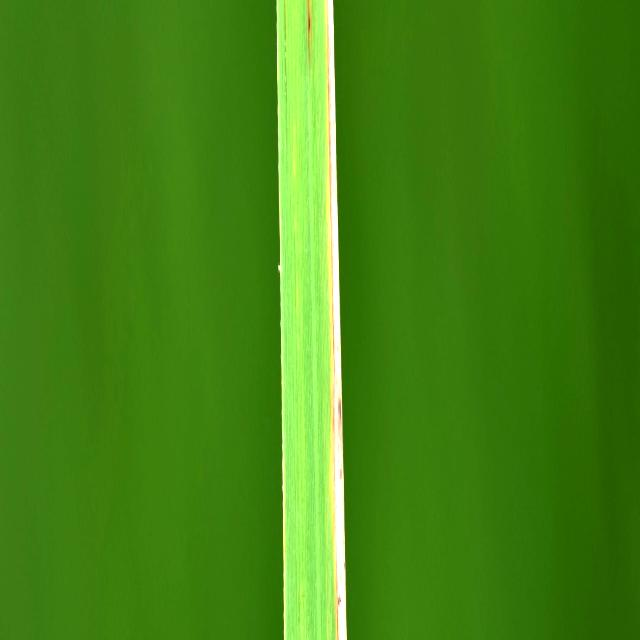BLB: (325, 1, 346, 640)
